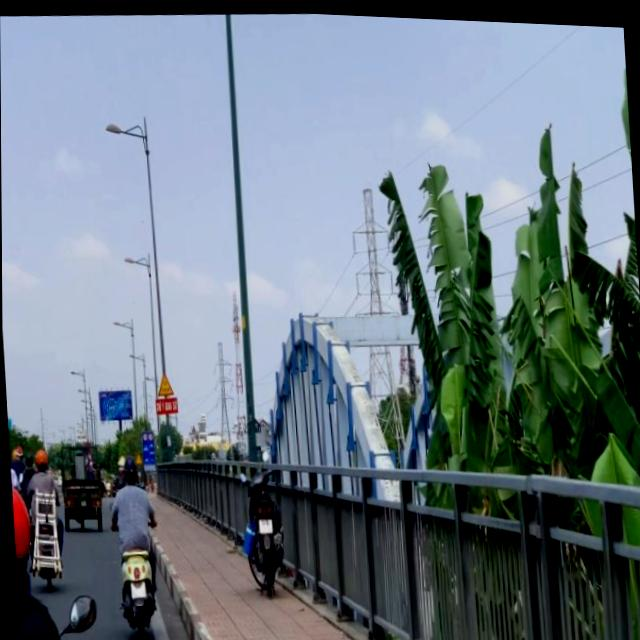Di cham: (156, 370, 174, 396)
Toc do toi da cho phep: (141, 431, 148, 441), (147, 431, 153, 440)
